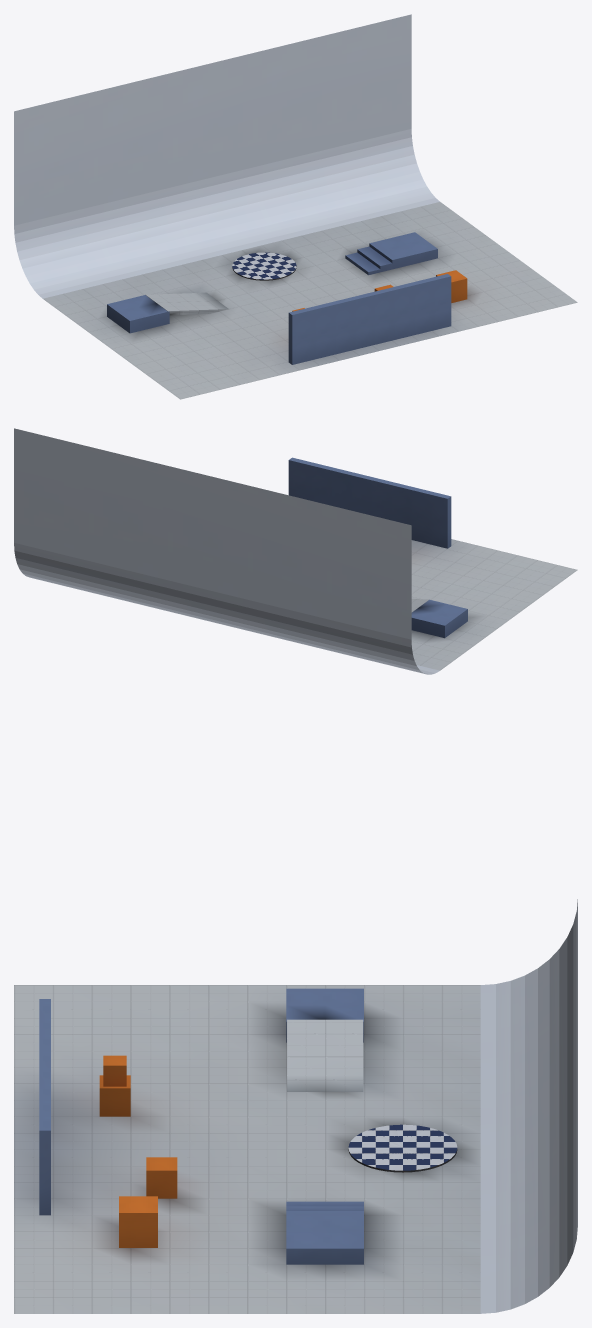
File: lab.glb
The picture shows the model from 3 angles, top to bottom: view 1: azimuth 30°, elevation 25°; view 2: azimuth 150°, elevation 25°; view 3: azimuth 270°, elevation 25°; orthographic projection. The views are drawn at different scales.
Visible parts, largest first — view 1: lab; view 2: lab; view 3: lab.
Part boxes in pixels (box(x1,y1,x2,y2)): lab: box(14, 14, 577, 399); lab: box(14, 428, 577, 674); lab: box(14, 899, 577, 1313).
Size of the model in its own units: 20 by 8.21 by 14.5.
6 materials, 6 textured.
